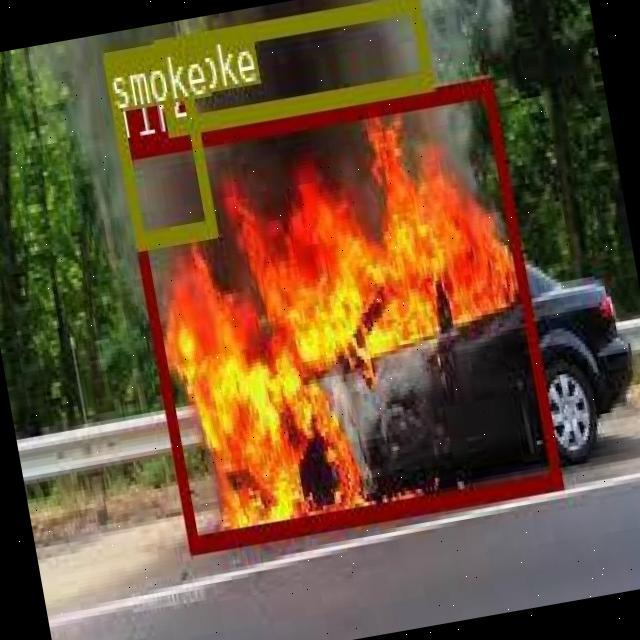fire: (117, 77, 560, 550)
smoke: (150, 0, 431, 131), (100, 37, 214, 248)
